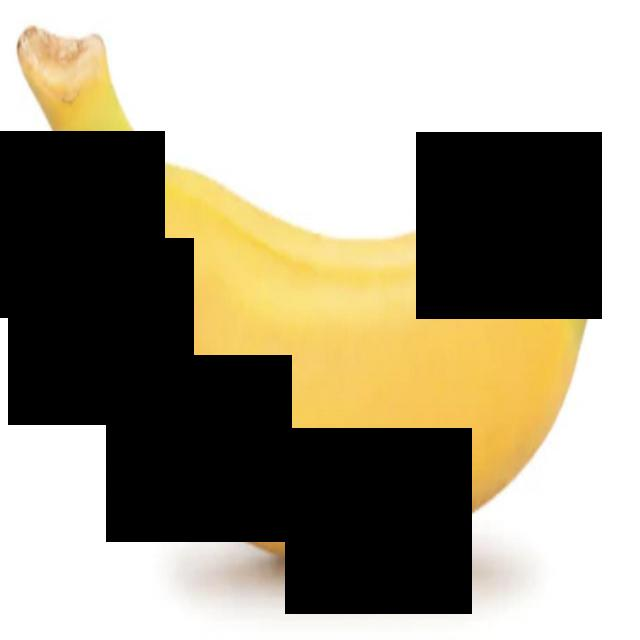banana: (12, 18, 639, 554)
